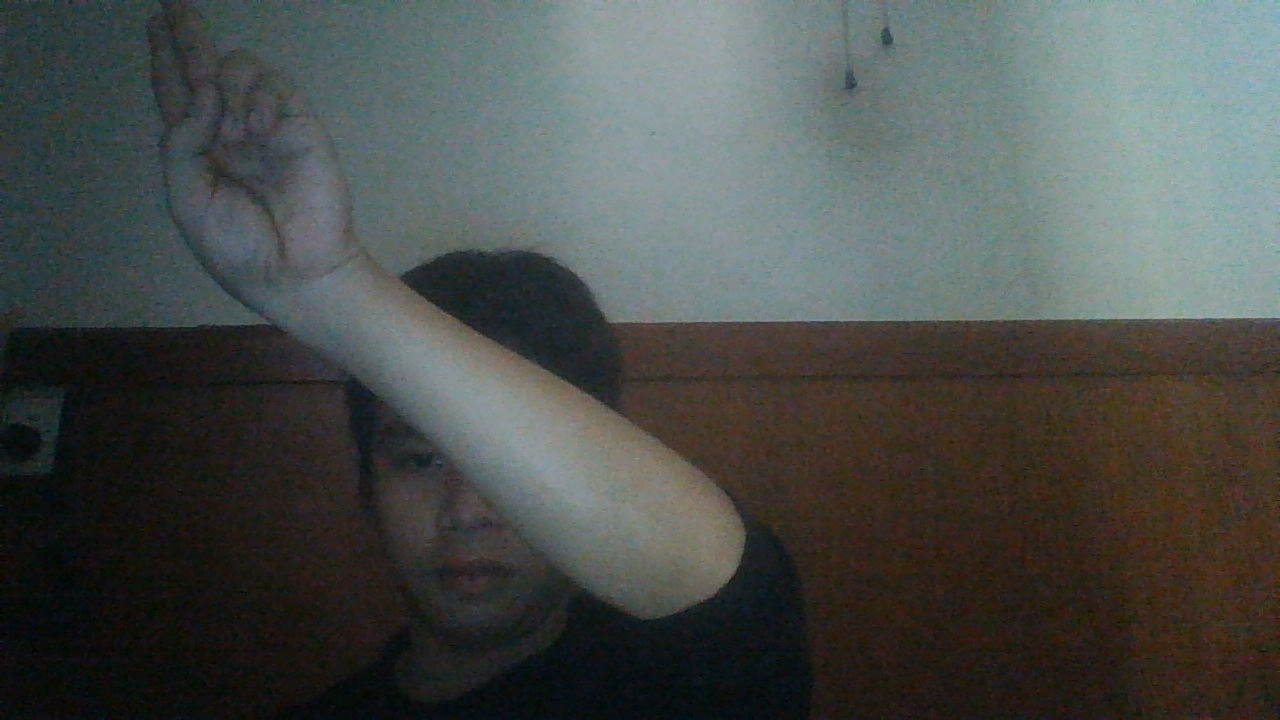write1: (145, 1, 356, 317)
